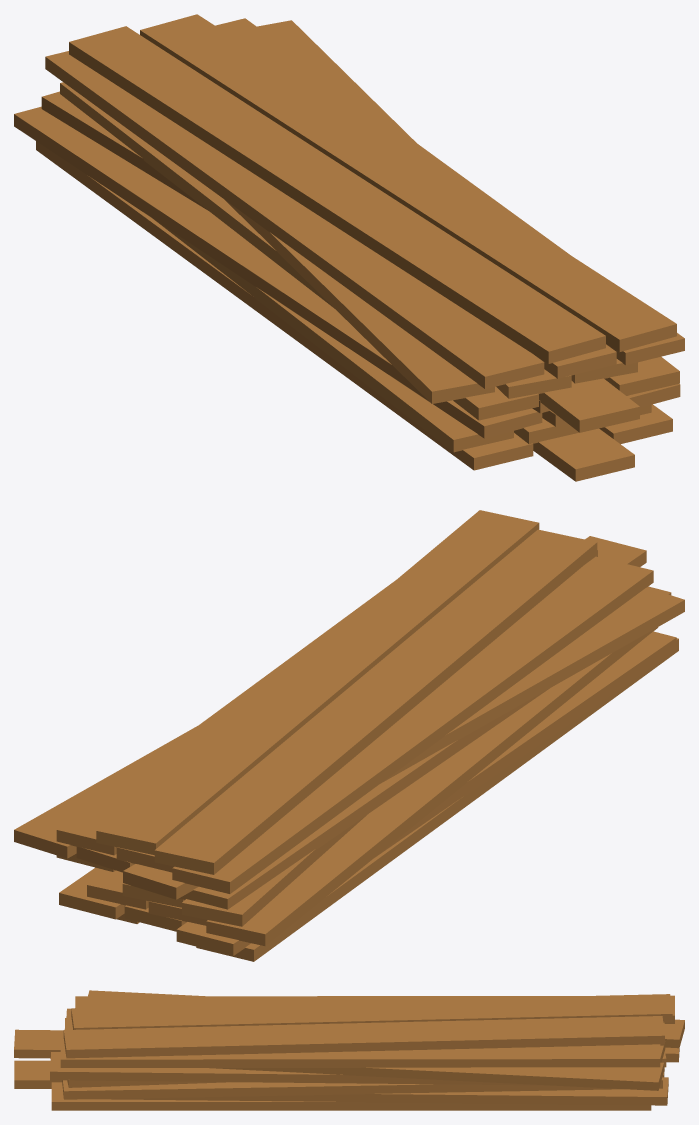
3 views of the same model, one above another, from view 1: azimuth 30°, elevation 25°; view 2: azimuth 150°, elevation 25°; view 3: azimuth 270°, elevation 25° (orthographic). The views are drawn at different scales.
Visible parts, largest first — view 1: A-17; view 2: A-17; view 3: A-17.
Part boxes in pixels (box(x1,y1,x2,y2)): A-17: box(14, 14, 684, 481); A-17: box(14, 510, 684, 961); A-17: box(14, 990, 684, 1110).
Size of the model in its own units: 455 by 151 by 1402.
